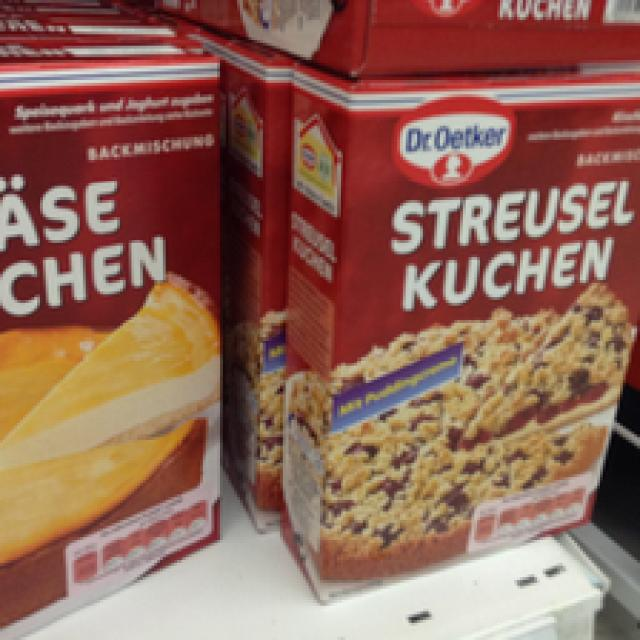groceries: (274, 63, 637, 594), (0, 40, 229, 631)
